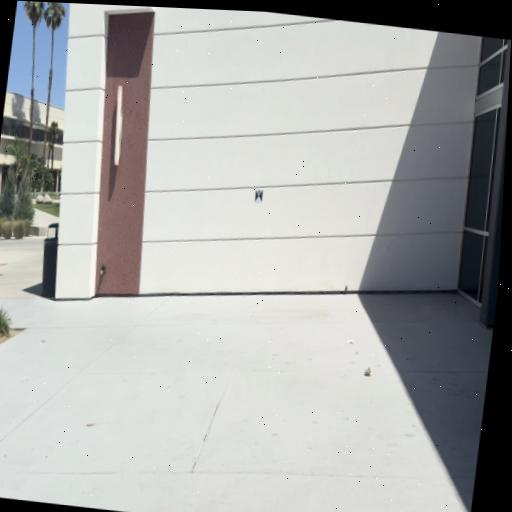target0: (255, 188, 263, 204)
